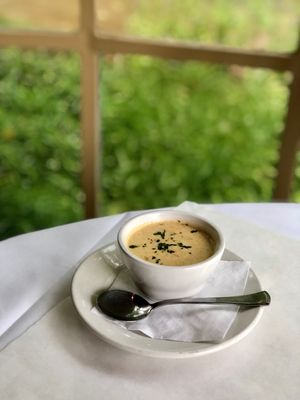salad: (95, 289, 269, 321)
sushi: (116, 210, 225, 297)
